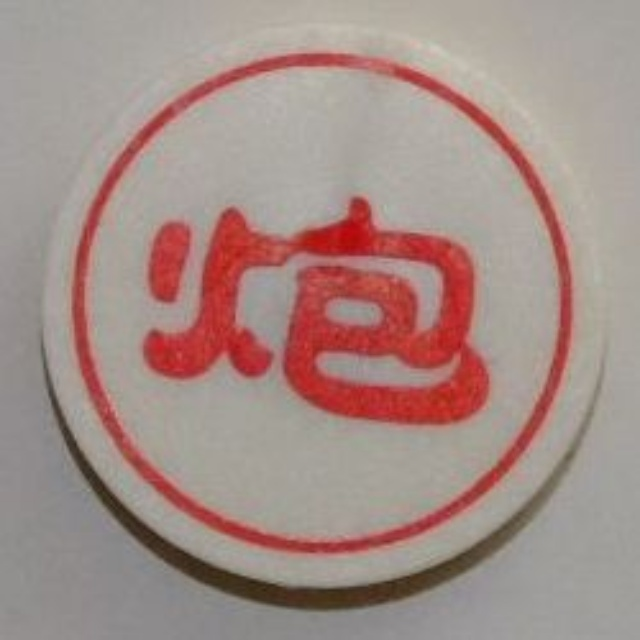red_phao: (40, 19, 624, 596)
